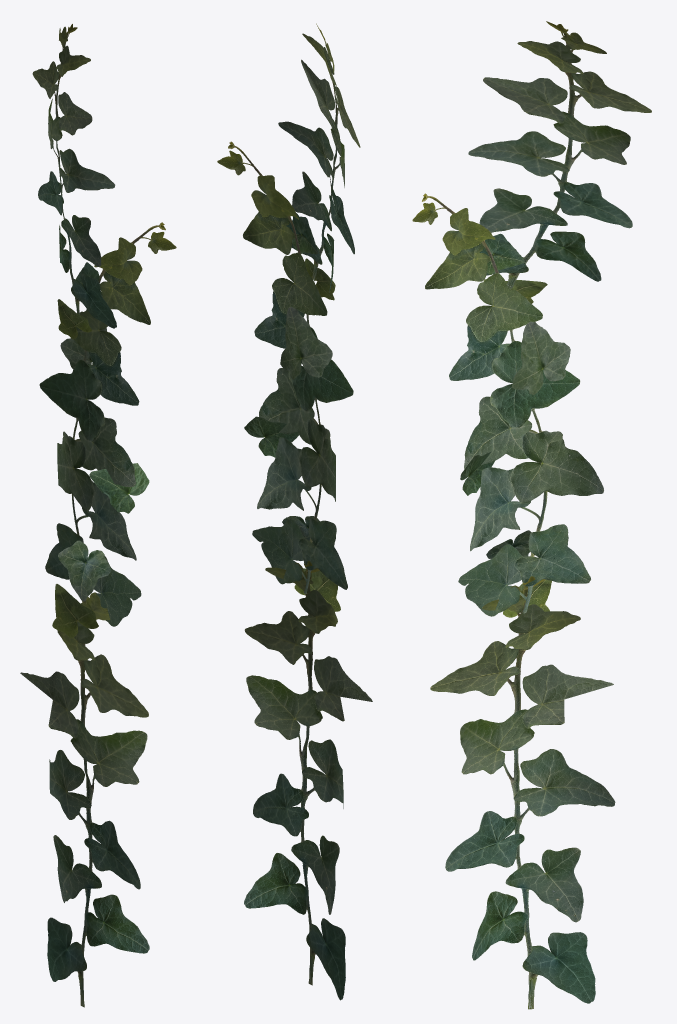
Rendered from sm_Ivy_01_09.fbx.
3 renders of one model, left to right at view 1: azimuth 30°, elevation 25°; view 2: azimuth 210°, elevation 25°; view 3: azimuth 270°, elevation 25°, orthographic. The views are drawn at different scales.
Parts seen in each view (by area): view 1: sm_Ivy_01_09; view 2: sm_Ivy_01_09; view 3: sm_Ivy_01_09.
Part boxes in pixels (<box>): sm_Ivy_01_09: <box>20,24,176,1007</box>; sm_Ivy_01_09: <box>217,23,372,1000</box>; sm_Ivy_01_09: <box>412,21,651,1009</box>.
Bounding box in the file's own units: 7.99 × 27.35 × 118.
